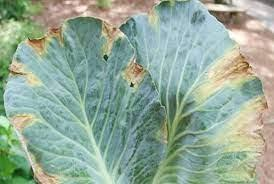Bok-Choy-Diseased: (6, 17, 167, 184), (130, 13, 274, 184)
